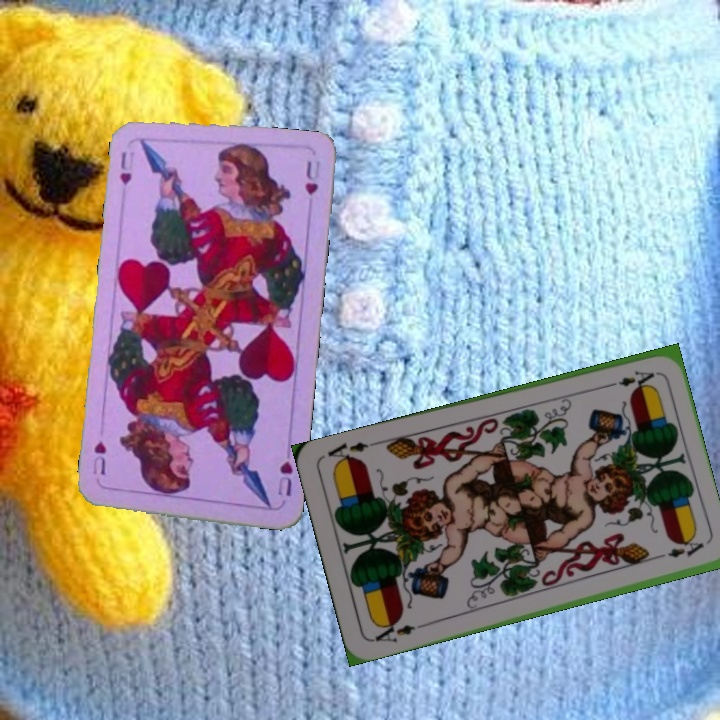EA: (368, 616, 426, 645), (614, 366, 657, 390)
HU: (273, 457, 296, 498), (116, 148, 134, 188)
